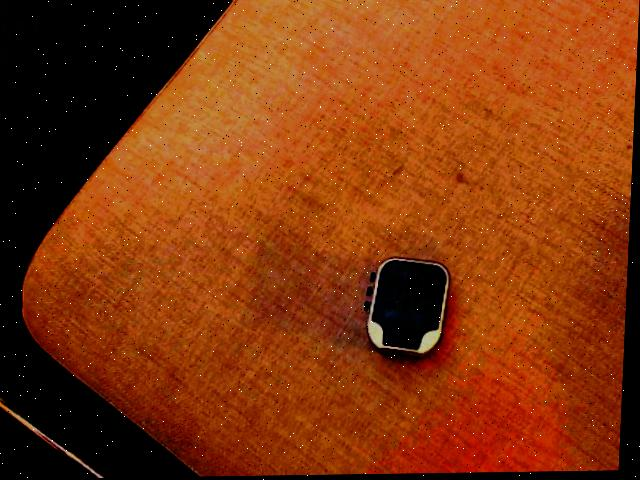adapter: (363, 256, 453, 358)
